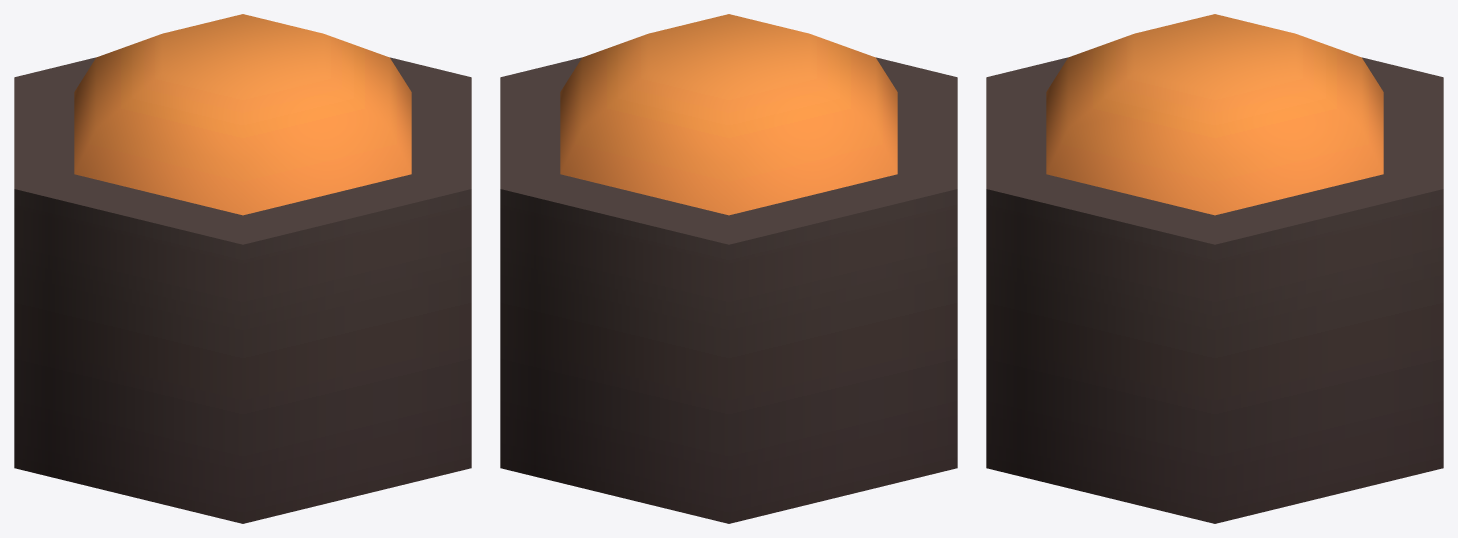
File: maki-roe.glb
The picture shows the model from 3 angles, left to right: view 1: azimuth 30°, elevation 25°; view 2: azimuth 150°, elevation 25°; view 3: azimuth 270°, elevation 25°; orthographic projection.
Parts seen in each view (by area): view 1: maki-roe; view 2: maki-roe; view 3: maki-roe.
Boxes of the visible parts, x1,y1,x2,y2 form: maki-roe: (14,14,471,523); maki-roe: (500,14,957,523); maki-roe: (986,14,1443,523).
Size of the model in its own units: 0.12 by 0.09 by 0.1039.
1 material, 1 textured.
